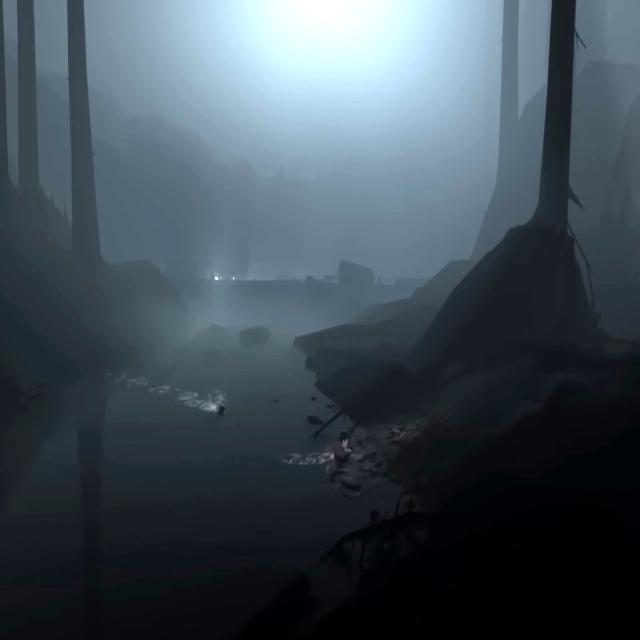boy: (332, 431, 352, 462)
